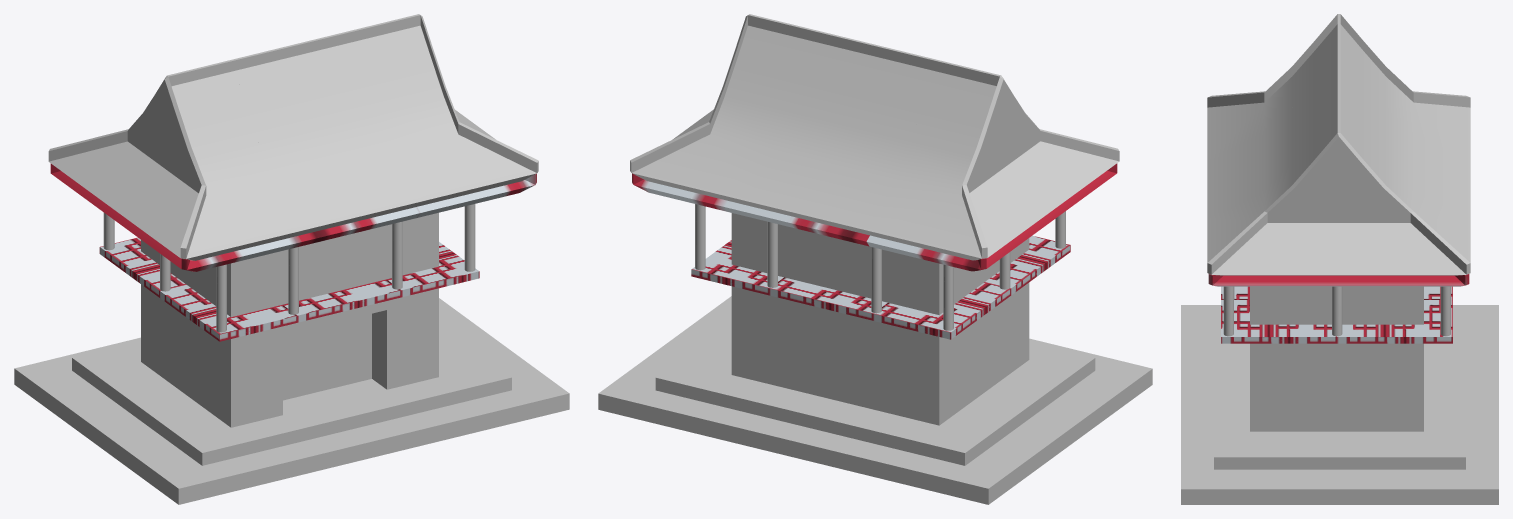
Rendered from shrine 1 (dark).fbx.
3 renders of one model, left to right at view 1: azimuth 30°, elevation 25°; view 2: azimuth 150°, elevation 25°; view 3: azimuth 270°, elevation 25°, orthographic. The views are drawn at different scales.
Visible parts, largest first — view 1: Plane029, Low poly roof 006, low poly roof 018, Low poly roof 005, Object018, Low poly roof 016, low poly roof 050, Low poly roof 015; view 2: Plane029, Low poly roof 006, low poly roof 018, Low poly roof 005, Object018, Low poly roof 016, low poly roof 050, Low poly roof 015; view 3: Plane029, Low poly roof 005, low poly roof 018, Low poly roof 006, Object018, Low poly roof 015, pillar006, pillar002, pillar008.
Boxes of the visible parts, box(x1,y1,x2,y2) form: Plane029: box(14, 212, 569, 504); Low poly roof 006: box(48, 59, 301, 260); low poly roof 018: box(233, 30, 421, 235); Low poly roof 005: box(353, 14, 538, 206); Object018: box(99, 237, 479, 341); Low poly roof 016: box(50, 163, 301, 271); low poly roof 050: box(298, 207, 420, 246); Low poly roof 015: box(417, 173, 536, 217); Plane029: box(598, 213, 1152, 504); Low poly roof 006: box(866, 59, 1119, 260); low poly roof 018: box(747, 30, 934, 234); Low poly roof 005: box(630, 14, 815, 205); Object018: box(691, 235, 1070, 339); Low poly roof 016: box(866, 163, 1117, 271); low poly roof 050: box(748, 206, 869, 246); Low poly roof 015: box(632, 173, 751, 217); Plane029: box(1181, 286, 1498, 504); Low poly roof 005: box(1207, 101, 1470, 275); low poly roof 018: box(1207, 45, 1470, 218); Low poly roof 006: box(1207, 14, 1470, 161); Object018: box(1221, 286, 1452, 343); Low poly roof 015: box(1208, 274, 1469, 286); pillar006: box(1440, 287, 1450, 336); pillar002: box(1223, 288, 1233, 336); pillar008: box(1332, 288, 1342, 336).
Bounding box in the file's own units: 79.15 × 68.09 × 57.68.
